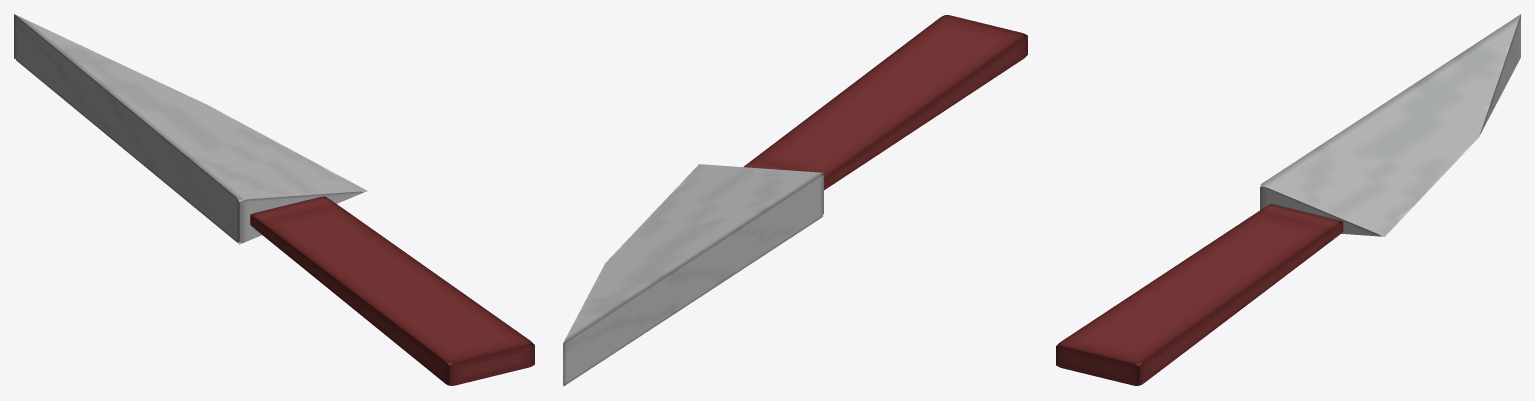
File: knife.fbx
3 renders of one model, left to right at view 1: azimuth 30°, elevation 25°; view 2: azimuth 150°, elevation 25°; view 3: azimuth 330°, elevation 25°, orthographic. The views are drawn at different scales.
Visible parts, largest first — view 1: blade, handle; view 2: blade, handle; view 3: blade, handle.
Part boxes in pixels (x1,y1,x2,y2): blade: (14, 14, 367, 244); handle: (250, 196, 534, 385); blade: (563, 164, 823, 386); handle: (743, 15, 1027, 190); blade: (1260, 14, 1520, 236); handle: (1056, 204, 1343, 385).
Size of the model in its own units: 7.5 by 2.5 by 46.25.
1 material, 1 textured.
